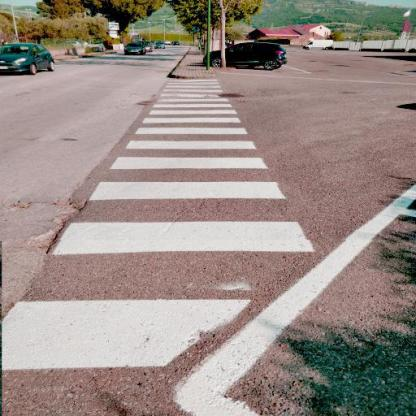crosswalk: (0, 219, 315, 377), (81, 154, 299, 206), (134, 116, 253, 138), (154, 92, 233, 106), (163, 78, 221, 85)
